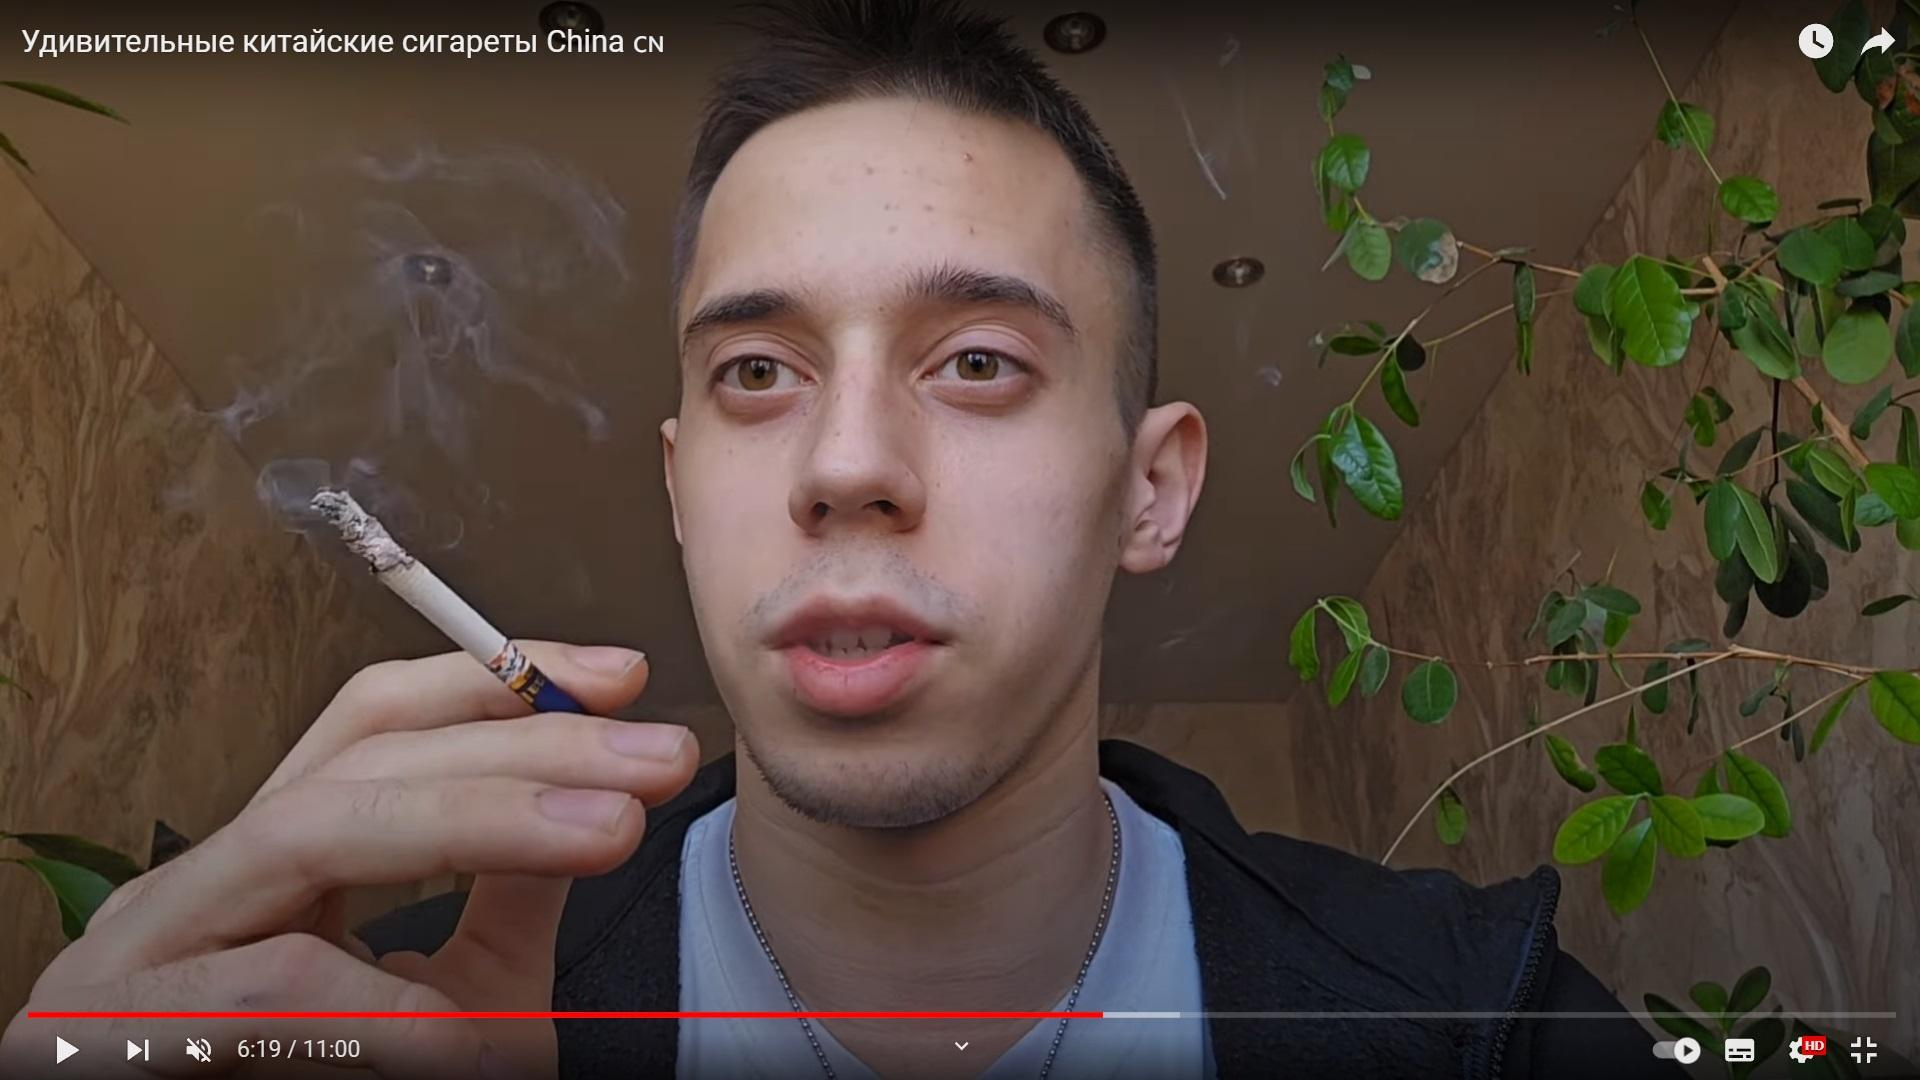cigarette: (311, 488, 593, 715)
